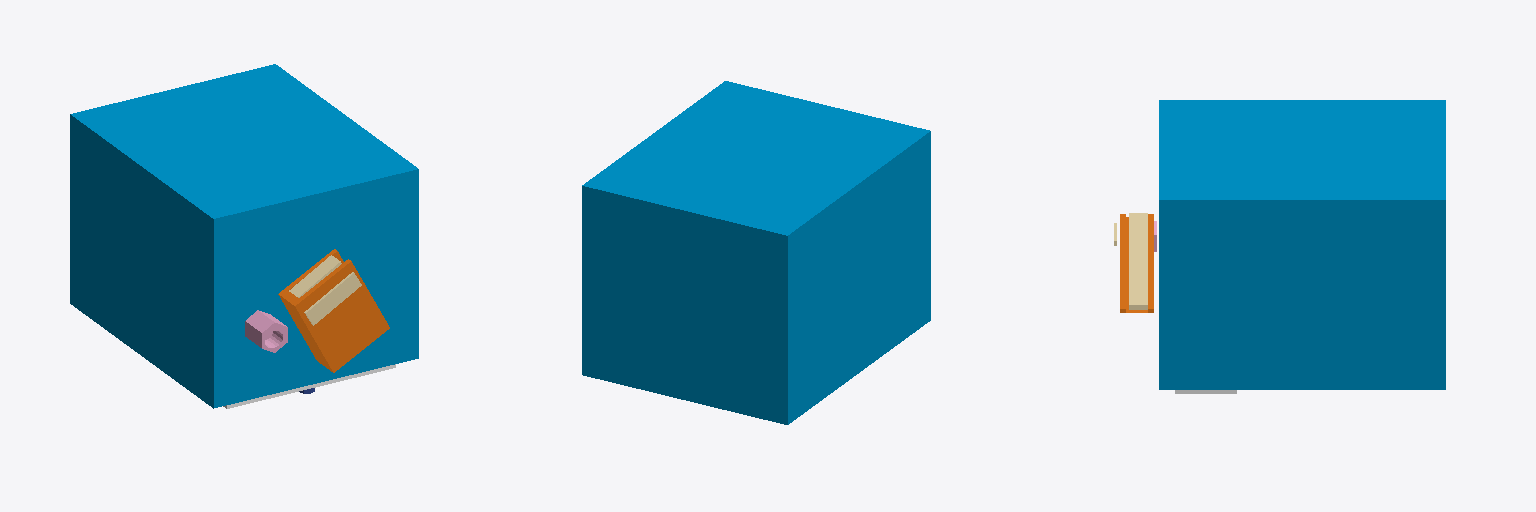
File: tinker.obj
3 renders of one model, left to right at view 1: azimuth 30°, elevation 25°; view 2: azimuth 150°, elevation 25°; view 3: azimuth 270°, elevation 25°, orthographic.
Visible parts, largest first — view 1: obj_0; view 2: obj_0; view 3: obj_0.
Part boxes in pixels (x1,y1,x2,y2): obj_0: (70,64,418,408); obj_0: (582,81,930,424); obj_0: (1114,100,1445,393).
Bounding box in the file's own units: 77.07 × 76 × 108.